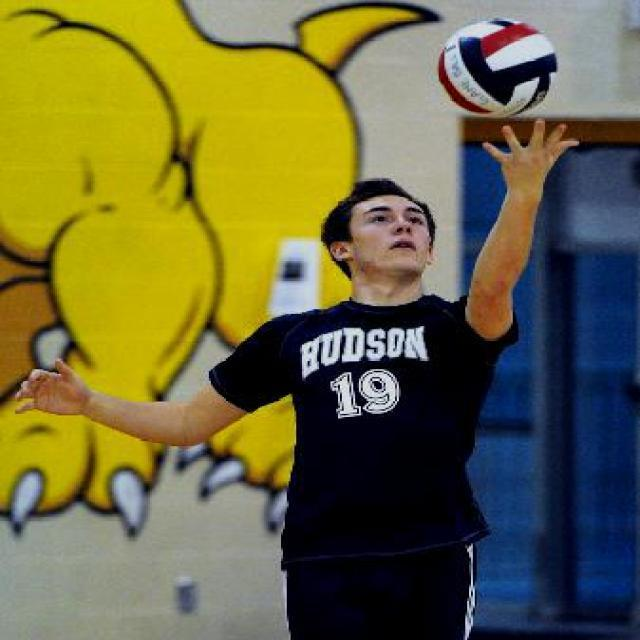volleyball: (437, 17, 559, 119)
